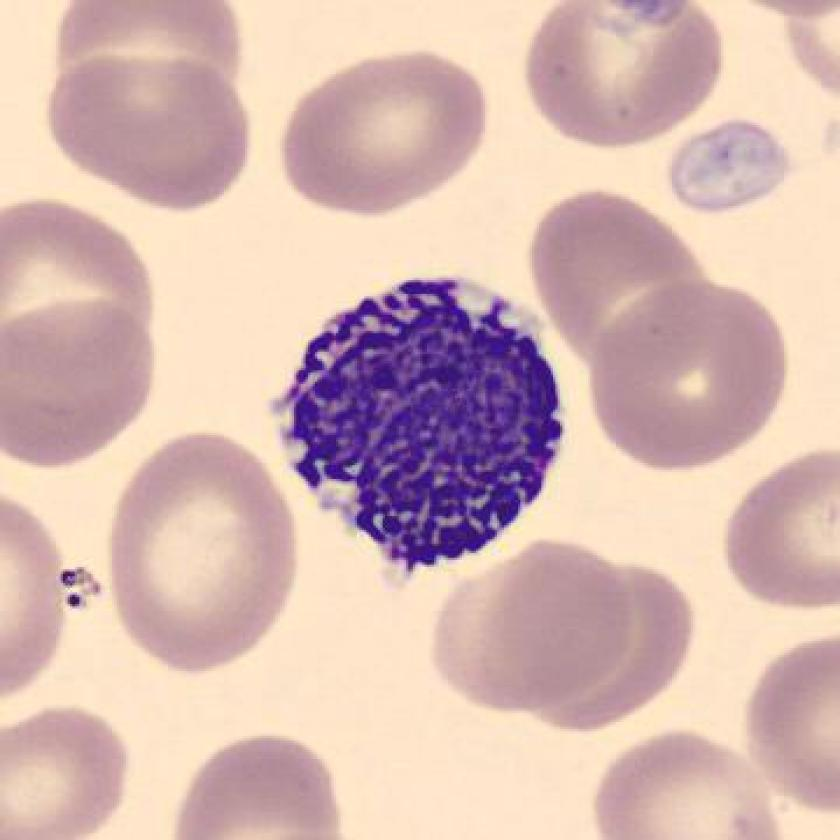basophil: (276, 270, 573, 571)
